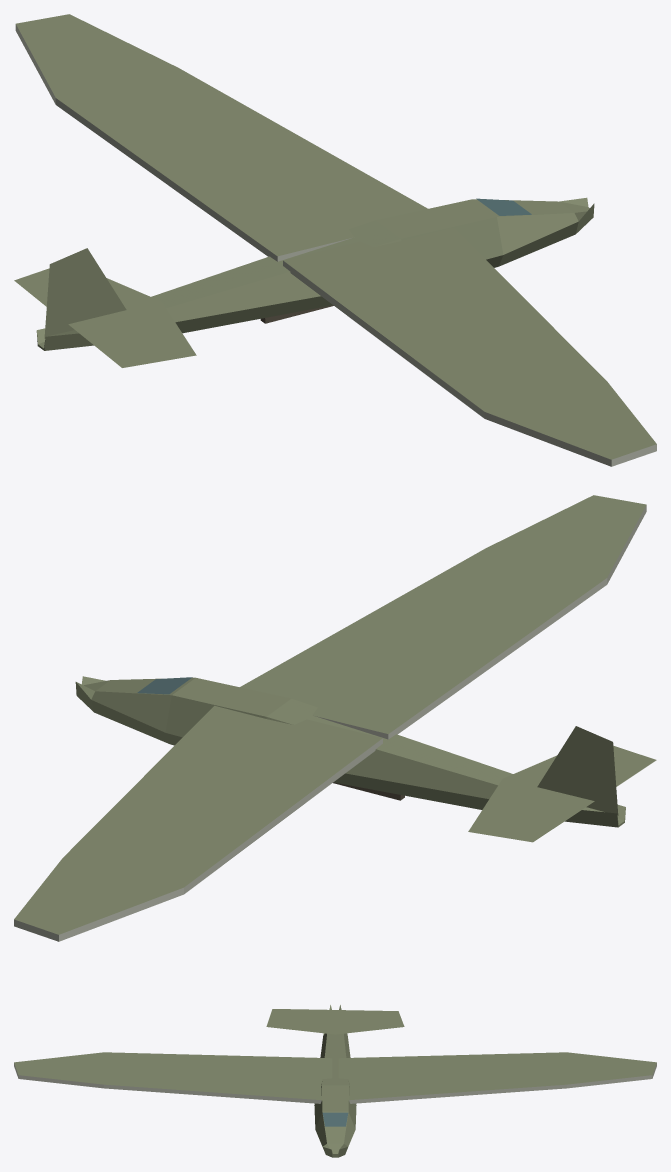
File: dfs-230.glb
The picture shows the model from 3 angles, top to bottom: view 1: azimuth 30°, elevation 25°; view 2: azimuth 150°, elevation 25°; view 3: azimuth 270°, elevation 25°; orthographic projection. The views are drawn at different scales.
Parts seen in each view (by area): view 1: Landing skid; view 2: Landing skid; view 3: Landing skid.
Boxes of the visible parts, bbox=[...] form: Landing skid: bbox=[14, 14, 656, 466]; Landing skid: bbox=[14, 495, 656, 941]; Landing skid: bbox=[14, 1005, 656, 1157].
Bounding box in the file's own units: 11.4 × 2.32 × 21.4.
